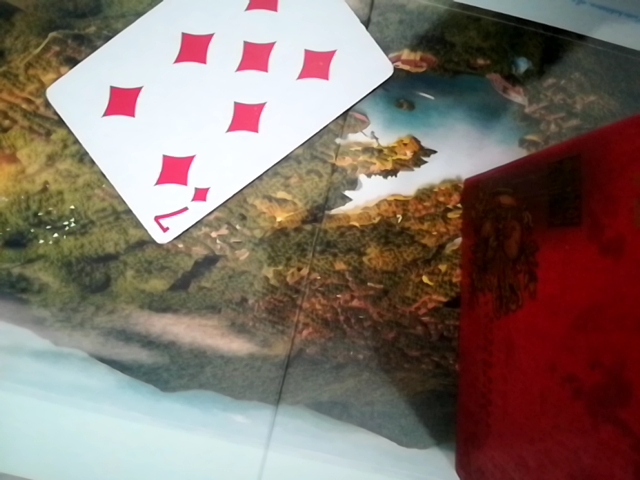fk 7: (38, 2, 396, 247)
